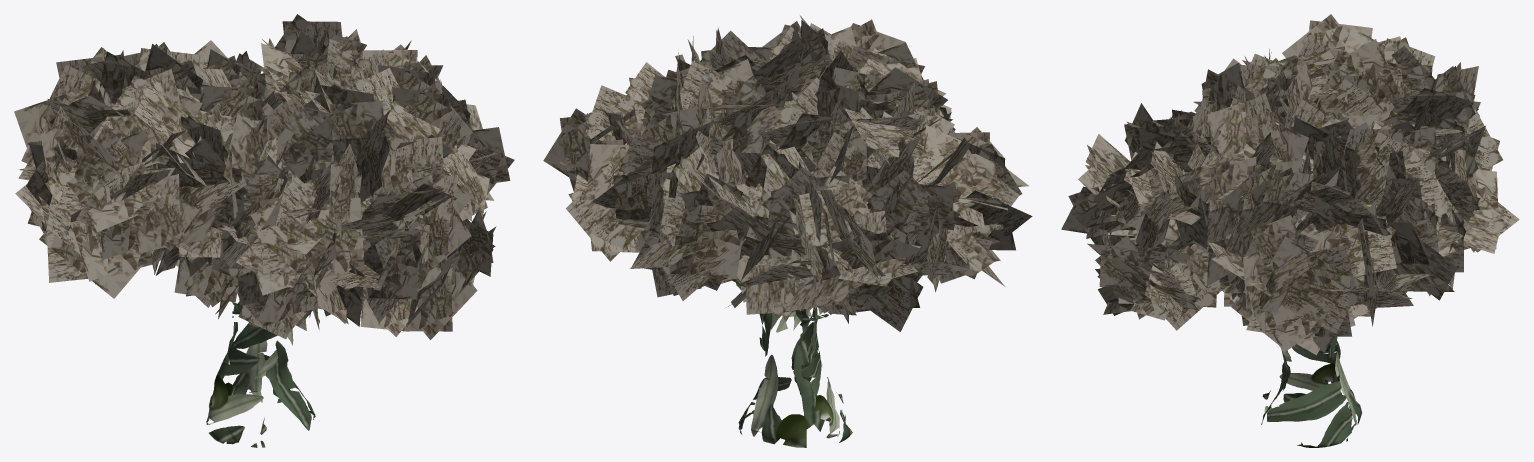
Rendered from OliveTree.fbx.
3 renders of one model, left to right at view 1: azimuth 30°, elevation 25°; view 2: azimuth 150°, elevation 25°; view 3: azimuth 270°, elevation 25°, orthographic. The views are drawn at different scales.
Visible parts, largest first — view 1: OliveTree_LOD0; view 2: OliveTree_LOD0; view 3: OliveTree_LOD0.
Boxes of the visible parts, x1,y1,x2,y2 form: OliveTree_LOD0: (14,14,514,447); OliveTree_LOD0: (543,15,1032,447); OliveTree_LOD0: (1061,14,1519,447).
Size of what is drawn, in the model's own units: 13.71 by 10.94 by 12.87.
